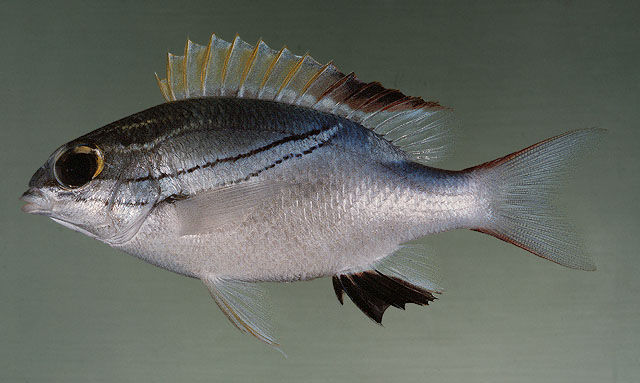fish: (19, 32, 609, 358)
